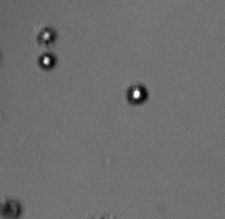Dead Cell: (1, 200, 20, 219)
Living Cell: (127, 84, 148, 104), (39, 53, 56, 69), (39, 28, 55, 41)
